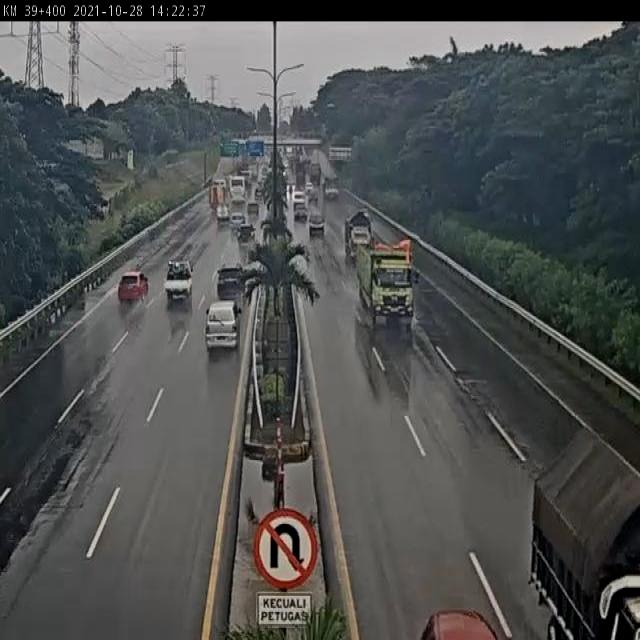Car: (200, 294, 240, 355), (216, 264, 247, 307), (164, 260, 194, 303), (117, 272, 149, 303), (308, 213, 325, 235), (238, 222, 255, 243), (229, 212, 246, 232), (216, 204, 230, 224), (294, 204, 308, 222), (247, 200, 260, 218), (325, 186, 339, 200), (305, 181, 313, 195)
Truck: (361, 241, 417, 325), (346, 209, 378, 251)
